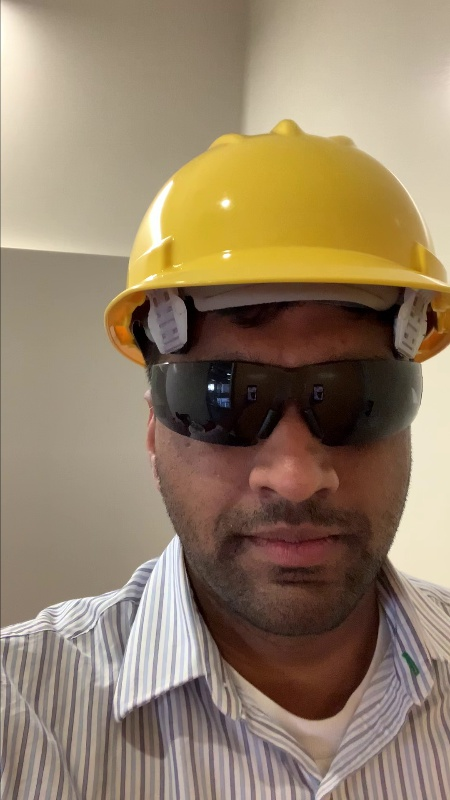glasses: (142, 356, 430, 447)
helmet: (97, 117, 450, 355)
